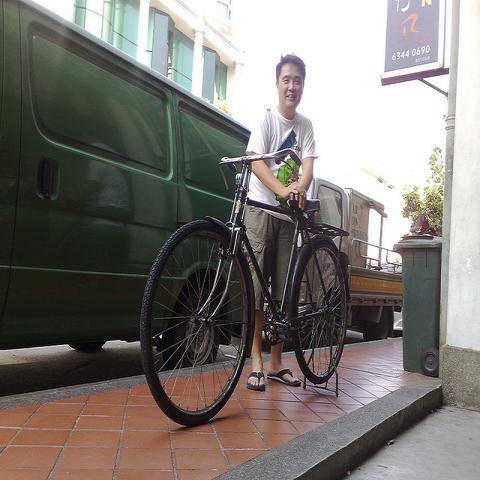car: (0, 4, 255, 354)
truck: (313, 183, 402, 306)
